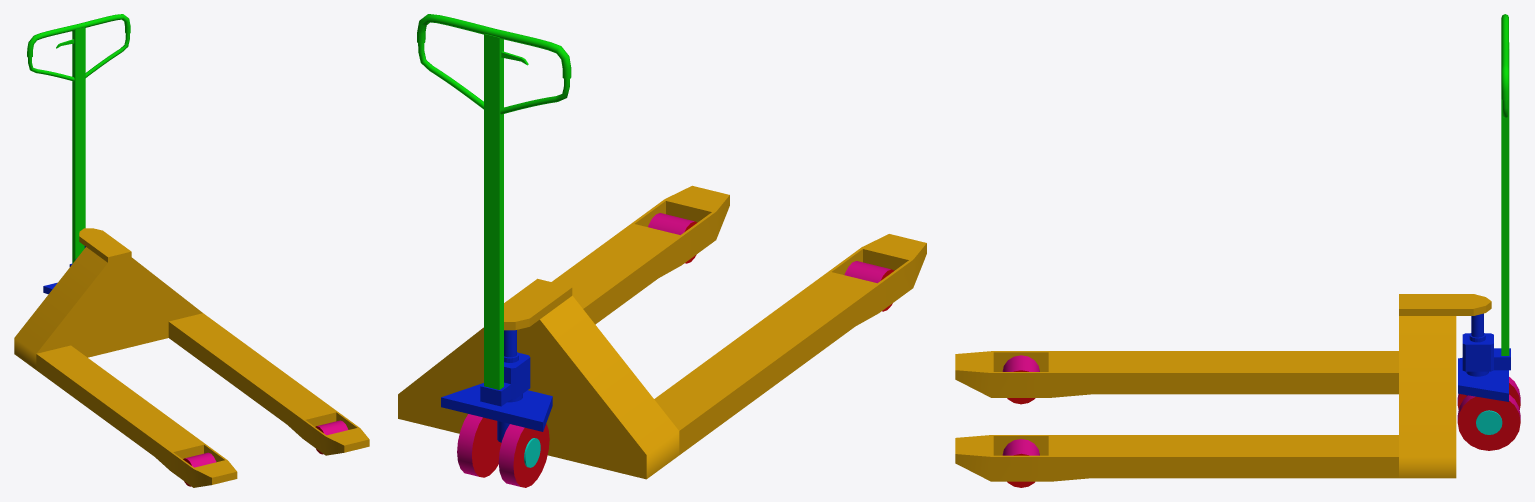
The model's file is Pallet_Jack.fbx.
3 views of the same model, side by side, from view 1: azimuth 30°, elevation 25°; view 2: azimuth 150°, elevation 25°; view 3: azimuth 270°, elevation 25° (orthographic). The views are drawn at different scales.
Visible parts, largest first — view 1: pCube7; view 2: pCube7; view 3: pCube7.
Boxes of the visible parts, x1=… form: pCube7: x1=14, y1=14, x2=369, y2=487; pCube7: x1=398, y1=14, x2=926, y2=487; pCube7: x1=955, y1=14, x2=1520, y2=487.
Bounding box in the file's own units: 53.96 × 94.81 × 122.
